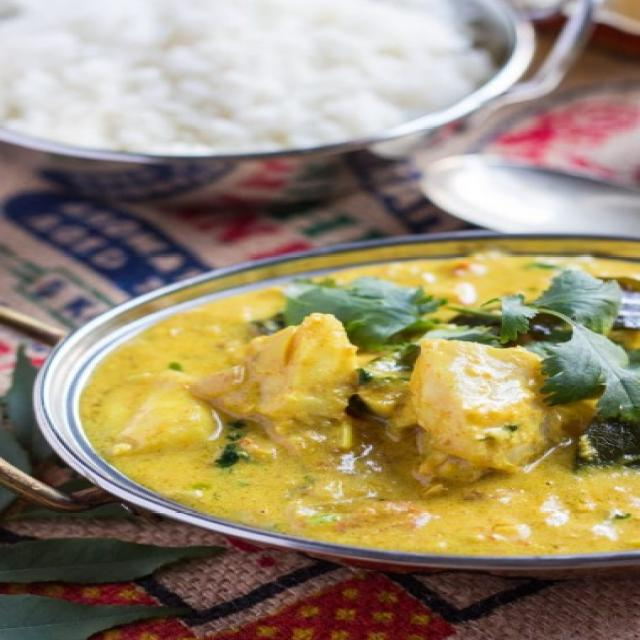FISH CURRY: (37, 237, 638, 571)
